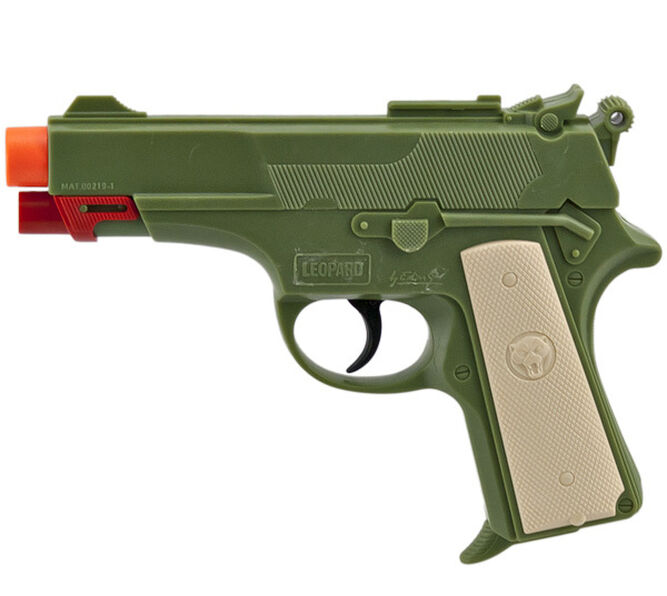Arma Falsa: (3, 80, 667, 565)
